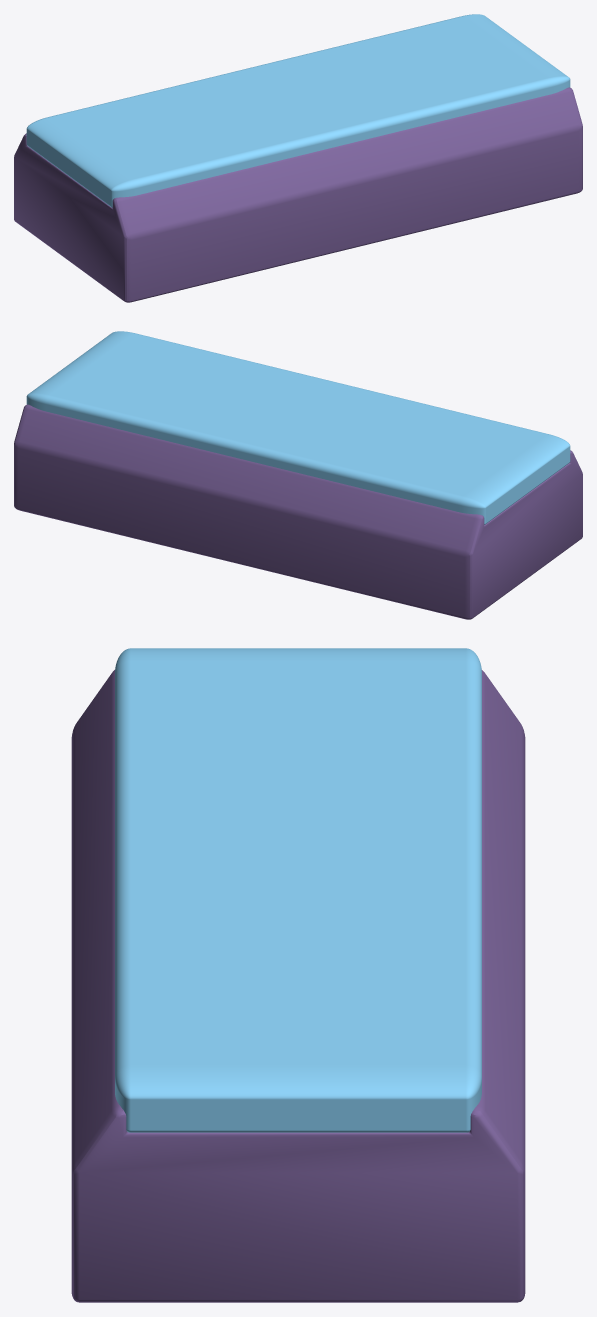
The picture shows the model from 3 angles, top to bottom: view 1: azimuth 30°, elevation 25°; view 2: azimuth 150°, elevation 25°; view 3: azimuth 270°, elevation 25°; orthographic projection. The views are drawn at different scales.
Parts seen in each view (by area): view 1: Cube.003, Plane.001; view 2: Cube.003, Plane.001; view 3: Plane.001, Cube.003.
Boxes of the visible parts, x1,y1,x2,y2 form: Cube.003: (14,87,582,302); Plane.001: (26,14,570,207); Cube.003: (14,404,582,619); Plane.001: (26,331,570,524); Plane.001: (115,648,481,1132); Cube.003: (71,670,525,1302).
Size of the model in its own units: 311 by 70.78 by 133.
